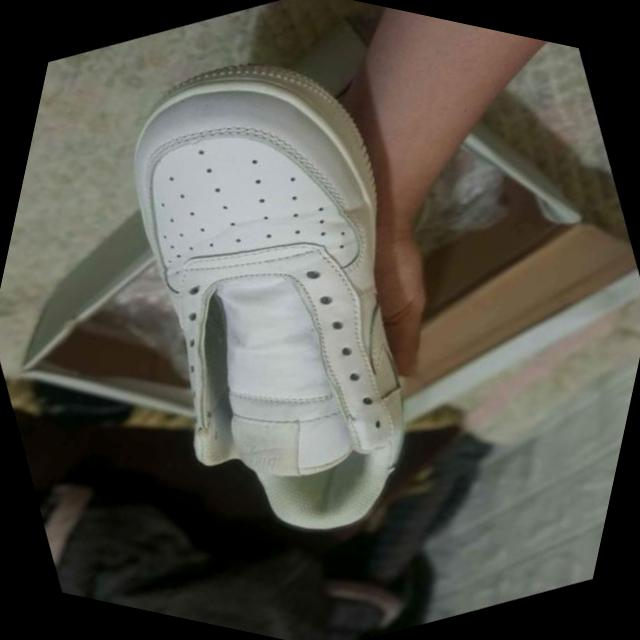nike_fake_airforce: (0, 0, 548, 605)
